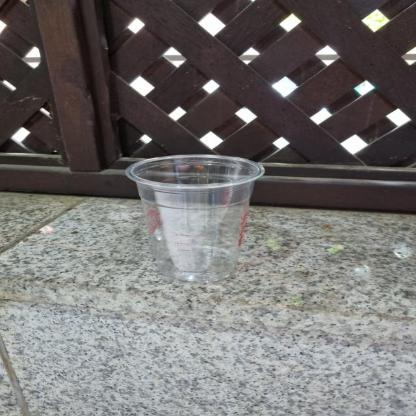Plastic Cup: (119, 149, 276, 287)
